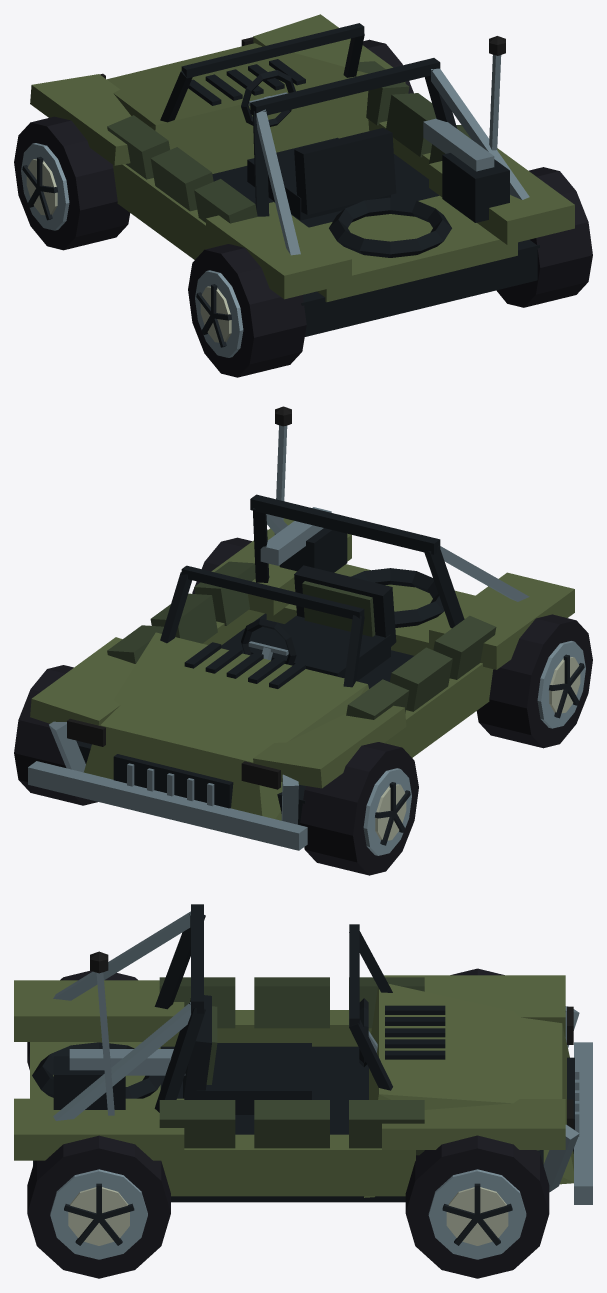
File: kart.glb
The picture shows the model from 3 angles, top to bottom: view 1: azimuth 30°, elevation 25°; view 2: azimuth 150°, elevation 25°; view 3: azimuth 270°, elevation 25°; orthographic projection. The views are drawn at different scales.
Visible parts, largest first — view 1: identity-warthog-warthog-sloped-armored-bonnet, identity-warthog-warthog-open-cage-and-cargo-bed, wheel-rear-left, wheel-front-left, identity-warthog-motif-armor, identity-warthog-driver-cockpit, wheel-rear-right, identity-warthog-motif-antenna, wheel-front-right; view 2: identity-warthog-warthog-sloped-armored-bonnet, identity-warthog-warthog-open-cage-and-cargo-bed, wheel-front-left, identity-warthog-motif-armor, wheel-rear-left, identity-warthog-driver-cockpit, wheel-front-right, identity-warthog-motif-antenna, wheel-rear-right; view 3: identity-warthog-warthog-sloped-armored-bonnet, identity-warthog-warthog-open-cage-and-cargo-bed, wheel-front-right, identity-warthog-motif-armor, wheel-rear-right, identity-warthog-driver-cockpit, identity-warthog-motif-antenna.
Part boxes in pixels (left/top/right/bottom): identity-warthog-warthog-sloped-armored-bonnet: left=30, top=14, right=574, bottom=336; identity-warthog-warthog-open-cage-and-cargo-bed: left=160, top=23, right=529, bottom=302; wheel-rear-left: left=188, top=244, right=306, bottom=377; wheel-front-left: left=14, top=116, right=130, bottom=250; identity-warthog-motif-armor: left=107, top=61, right=470, bottom=223; identity-warthog-driver-cockpit: left=241, top=70, right=396, bottom=220; wheel-rear-right: left=496, top=167, right=592, bottom=307; identity-warthog-motif-antenna: left=489, top=36, right=505, bottom=150; wheel-front-right: left=362, top=39, right=413, bottom=93; identity-warthog-warthog-sloped-armored-bonnet: left=28, top=518, right=574, bottom=850; identity-warthog-warthog-open-cage-and-cargo-bed: left=160, top=494, right=529, bottom=687; wheel-front-left: left=300, top=742, right=418, bottom=875; identity-warthog-motif-armor: left=107, top=561, right=496, bottom=719; wheel-rear-left: left=476, top=614, right=592, bottom=748; identity-warthog-driver-cockpit: left=241, top=565, right=396, bottom=681; wheel-front-right: left=14, top=665, right=97, bottom=805; identity-warthog-motif-antenna: left=274, top=406, right=291, bottom=534; wheel-rear-right: left=192, top=537, right=251, bottom=593; identity-warthog-warthog-sloped-armored-bonnet: left=14, top=975, right=592, bottom=1204; identity-warthog-warthog-open-cage-and-cargo-bed: left=30, top=904, right=392, bottom=1120; wheel-front-right: left=405, top=1135, right=549, bottom=1278; identity-warthog-motif-armor: left=159, top=977, right=424, bottom=1155; wheel-rear-right: left=27, top=1135, right=170, bottom=1278; identity-warthog-driver-cockpit: left=183, top=995, right=377, bottom=1114; identity-warthog-motif-antenna: left=90, top=951, right=114, bottom=1115.
Bounding box in the file's own units: 2.37 × 1.72 × 3.06.
